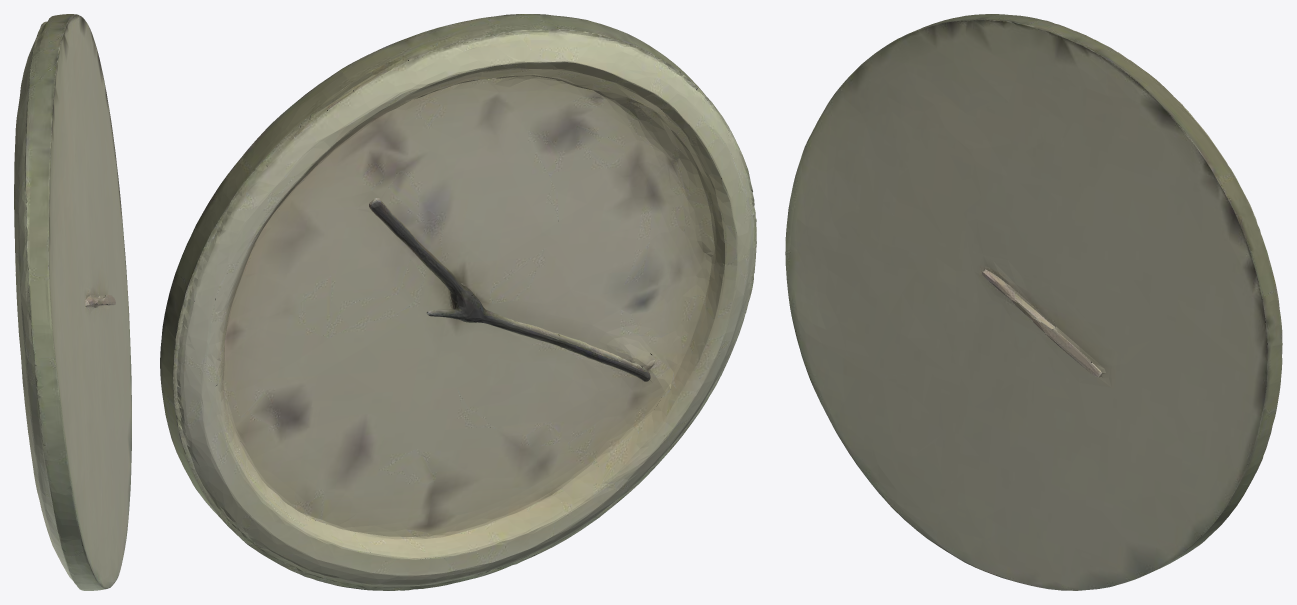
Rendered from round_analog_clock_on_wall_000.glb.
3 renders of one model, left to right at view 1: azimuth 30°, elevation 25°; view 2: azimuth 150°, elevation 25°; view 3: azimuth 270°, elevation 25°, orthographic. The views are drawn at different scales.
Parts seen in each view (by area): view 1: round_analog_clock_on_wall_000.obj; view 2: round_analog_clock_on_wall_000.obj; view 3: round_analog_clock_on_wall_000.obj.
Part boxes in pixels (x1,y1,x2,y2): round_analog_clock_on_wall_000.obj: [14, 14, 131, 590]; round_analog_clock_on_wall_000.obj: [160, 14, 756, 590]; round_analog_clock_on_wall_000.obj: [785, 14, 1282, 590].
Size of the model in its own units: 0.1259 by 0.2016 by 0.1708.
1 material, 1 textured.
